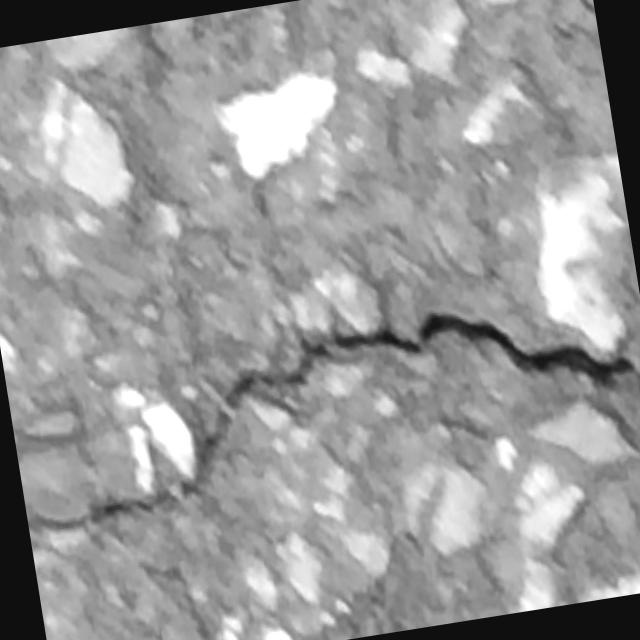crack: (4, 267, 640, 551)
